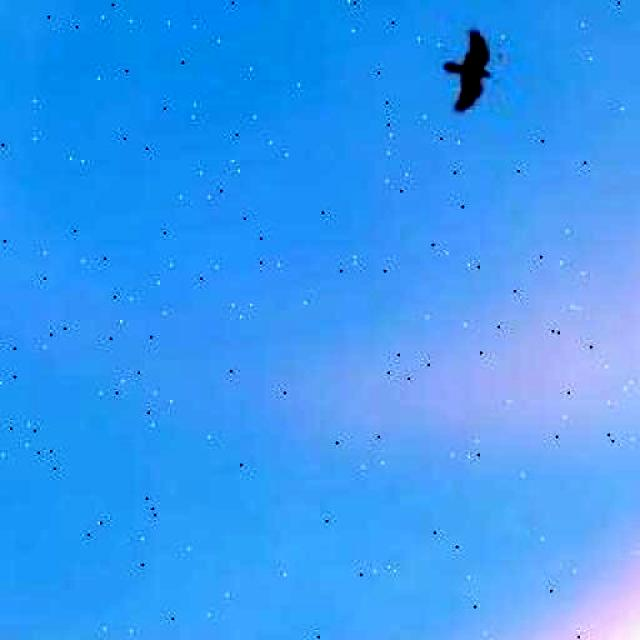airplane: (439, 21, 509, 118)
